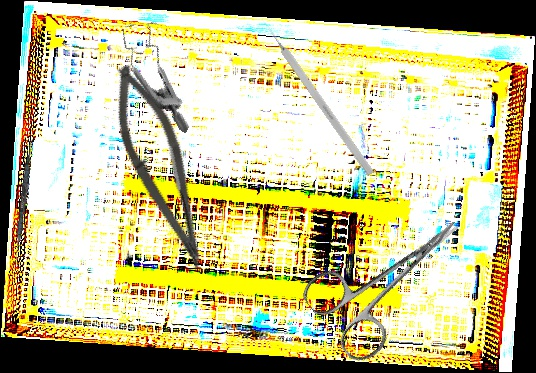Hook Surgical: (259, 17, 375, 177)
Iris Scissors: (297, 188, 489, 369)
Micro Scissor: (93, 58, 231, 277)
Spatula Surgical: (12, 139, 34, 266)
Speculum: (93, 9, 228, 134)
